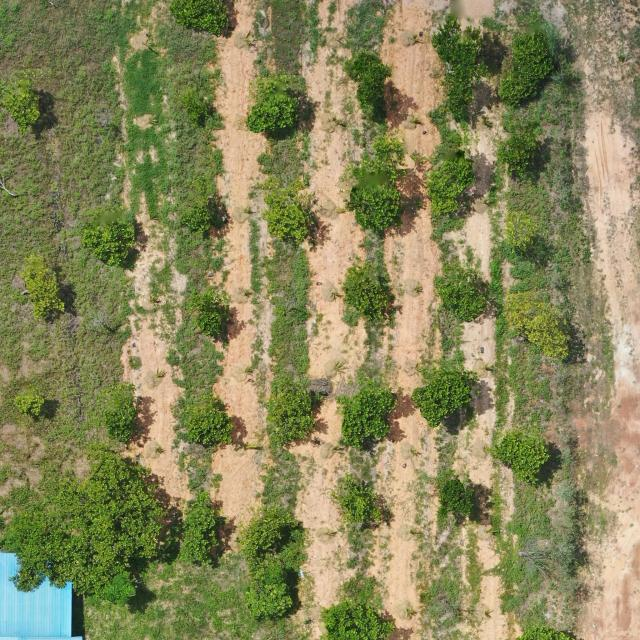tree: (7, 449, 169, 595), (430, 12, 484, 124), (500, 290, 573, 365), (497, 29, 558, 110), (427, 130, 475, 220), (338, 384, 399, 452), (344, 172, 406, 238), (14, 252, 70, 324), (246, 72, 306, 138), (260, 180, 316, 247), (341, 50, 392, 122), (81, 208, 140, 270), (264, 389, 322, 451), (489, 428, 552, 483), (434, 264, 492, 323), (412, 370, 474, 425), (318, 596, 395, 640), (242, 556, 296, 618), (342, 264, 394, 327), (181, 488, 222, 567), (240, 501, 296, 558), (177, 394, 230, 453), (335, 474, 387, 530), (192, 288, 235, 350), (180, 176, 222, 237), (169, 0, 236, 38), (0, 77, 42, 136), (494, 134, 540, 182), (503, 208, 543, 257), (437, 476, 477, 524), (102, 404, 142, 446), (11, 386, 49, 422)
